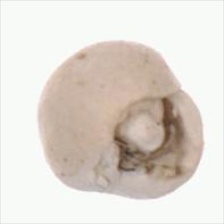L3: (112, 94, 187, 178)
L4: (36, 40, 205, 200)
